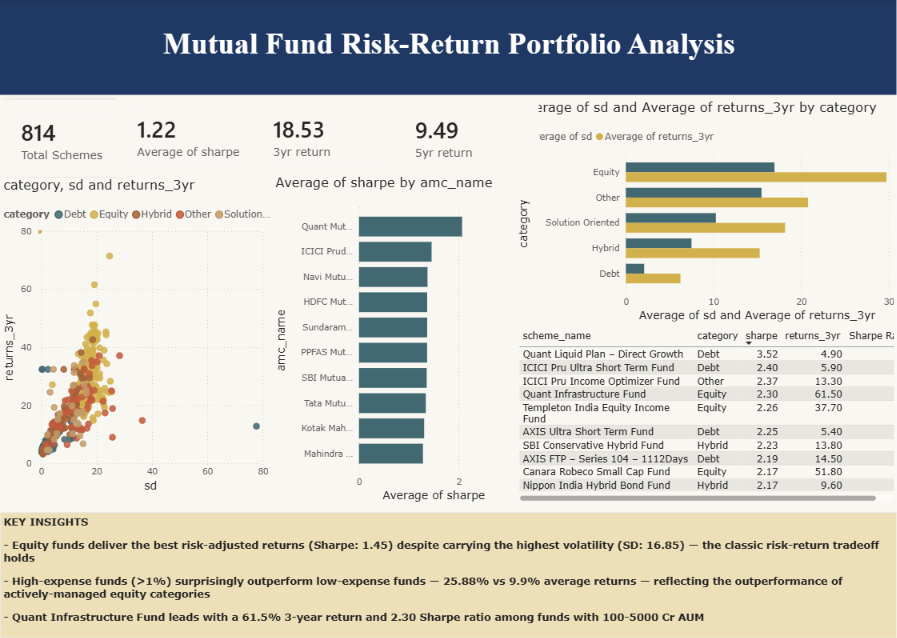

This screenshot's page, from the dashboard's own definition file:
{"tool":"powerbi","page":{"name":"Page 1","canvas":[1280,910],"ordinal":0},"visuals":[{"type":"cardVisual","fields":{"Data":["CountNonNull(comprehensive_mutual_funds_data.scheme_name)"]},"box":[0,142.5,176.7,109.8],"z":0},{"type":"cardVisual","fields":{"Data":["Avg(comprehensive_mutual_funds_data.sharpe)"]},"box":[165.3,134,205.3,118.3],"z":1},{"type":"cardVisual","fields":{"Data":["Avg(comprehensive_mutual_funds_data.returns_3yr)"]},"box":[359.2,134,219.5,118.3],"z":2},{"type":"clusteredBarChart","fields":{"Category":["comprehensive_mutual_funds_data.category"],"Y":["Avg(comprehensive_mutual_funds_data.sd)","Avg(comprehensive_mutual_funds_data.returns_3yr)"]},"box":[734.1,141.1,545.9,322.1],"z":3},{"type":"scatterChart","fields":{"Series":["comprehensive_mutual_funds_data.category"],"X":["comprehensive_mutual_funds_data.sd"],"Y":["comprehensive_mutual_funds_data.returns_3yr"]},"box":[0,252.3,387.7,453.3],"z":4},{"type":"tableEx","fields":{"Values":["comprehensive_mutual_funds_data.scheme_name","comprehensive_mutual_funds_data.category","comprehensive_mutual_funds_data.sharpe","comprehensive_mutual_funds_data.returns_3yr","comprehensive_mutual_funds_data.Sharpe Rank"]},"box":[734.1,463.3,545.9,256.6],"z":5},{"type":"clusteredBarChart","fields":{"Category":["comprehensive_mutual_funds_data.amc_name"],"Y":["Avg(comprehensive_mutual_funds_data.sharpe)"]},"box":[387.7,248,346.4,471.8],"z":6},{"type":"textbox","box":[0,0,1280,135.4],"z":7},{"type":"cardVisual","fields":{"Data":["Avg(comprehensive_mutual_funds_data.returns_5yr)"]},"box":[561.6,139.7,206.7,108.3],"z":8},{"type":"textbox","box":[0,729.8,1280,179.6],"z":9}]}

Visuals, with their boxes in screenshot pixels (x1, y1, x2, y2), scaled from the page's 1280x910 canvas onto the 897x638 screenshot:
cardVisual - CountNonNull(comprehensive_mutual_funds_data.scheme_name): bbox(0, 100, 124, 177)
cardVisual - Avg(comprehensive_mutual_funds_data.sharpe): bbox(116, 94, 260, 177)
cardVisual - Avg(comprehensive_mutual_funds_data.returns_3yr): bbox(252, 94, 406, 177)
clusteredBarChart - comprehensive_mutual_funds_data.category x Avg(comprehensive_mutual_funds_data.sd): bbox(514, 99, 896, 325)
scatterChart - comprehensive_mutual_funds_data.category x comprehensive_mutual_funds_data.sd: bbox(0, 177, 272, 495)
tableEx - comprehensive_mutual_funds_data.scheme_name x comprehensive_mutual_funds_data.category: bbox(514, 325, 896, 505)
clusteredBarChart - comprehensive_mutual_funds_data.amc_name x Avg(comprehensive_mutual_funds_data.sharpe): bbox(272, 174, 514, 505)
textbox: bbox(0, 0, 896, 95)
cardVisual - Avg(comprehensive_mutual_funds_data.returns_5yr): bbox(394, 98, 538, 174)
textbox: bbox(0, 512, 896, 637)
